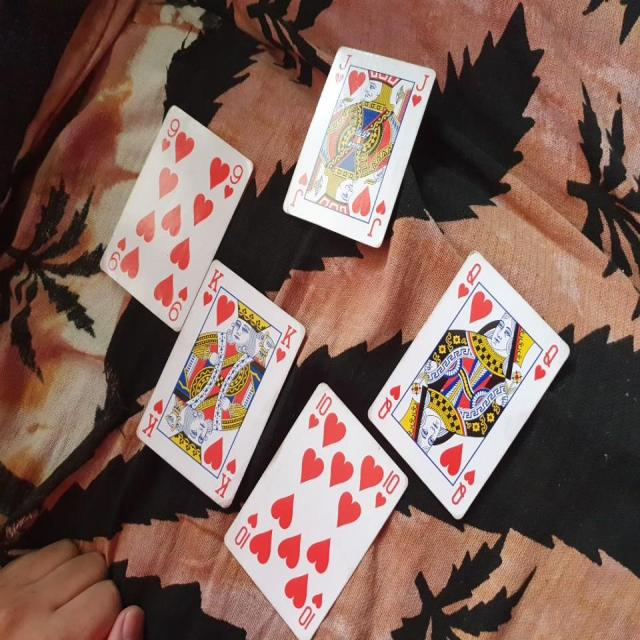10 Hearts: (216, 377, 413, 630)
9 Hearts: (92, 96, 261, 343)
J Hearts: (279, 45, 438, 258)
K Hearts: (134, 261, 306, 519)
Q Hearts: (357, 238, 574, 539)
